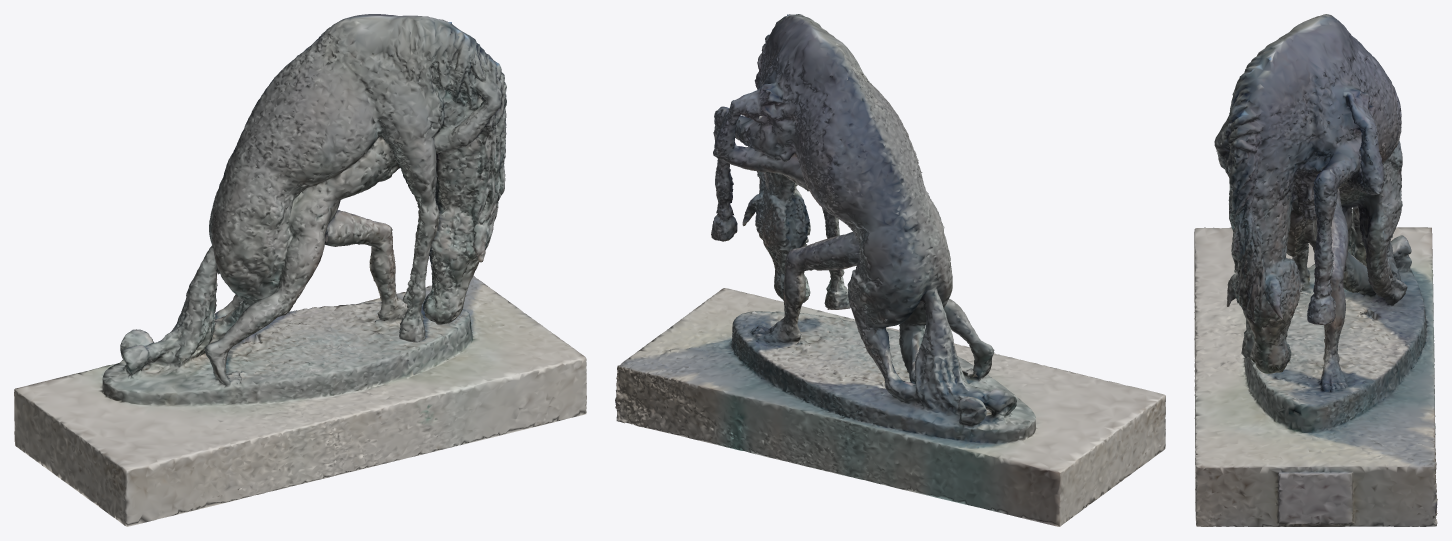
File: preview.glb
The picture shows the model from 3 angles, left to right: view 1: azimuth 30°, elevation 25°; view 2: azimuth 150°, elevation 25°; view 3: azimuth 270°, elevation 25°; orthographic projection. The views are drawn at different scales.
Parts seen in each view (by area): view 1: Object_2; view 2: Object_2; view 3: Object_2.
Boxes of the visible parts, left/top/right/bottom form: Object_2: left=14, top=14, right=586, bottom=526; Object_2: left=615, top=14, right=1165, bottom=526; Object_2: left=1194, top=14, right=1437, bottom=526.
Size of the model in its own units: 231 by 188 by 98.36.
